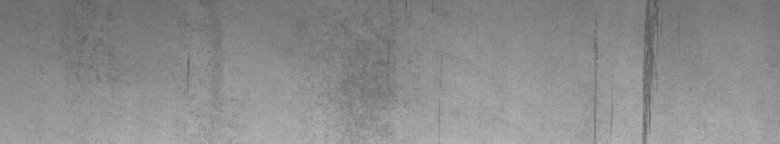ka: (594, 4, 662, 136)
